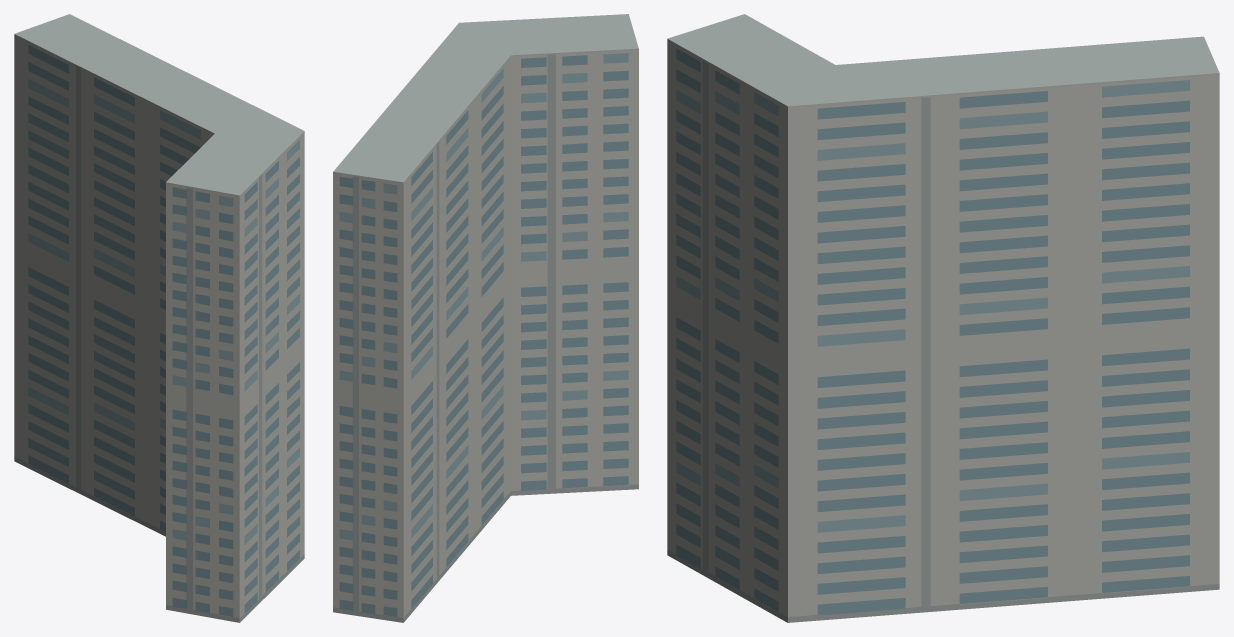
File: residential-f39b2851-1754-4e9a-a67b-254eb395c3c6.glb
3 renders of one model, left to right at view 1: azimuth 30°, elevation 25°; view 2: azimuth 150°, elevation 25°; view 3: azimuth 270°, elevation 25°, orthographic. The views are drawn at different scales.
Parts seen in each view (by area): view 1: residential-f39b2851-1754-4e9a-a67b-254eb395c3c6.tmp; view 2: residential-f39b2851-1754-4e9a-a67b-254eb395c3c6.tmp; view 3: residential-f39b2851-1754-4e9a-a67b-254eb395c3c6.tmp.
Boxes of the visible parts, <box> form: residential-f39b2851-1754-4e9a-a67b-254eb395c3c6.tmp: <box>14,14,304,622</box>; residential-f39b2851-1754-4e9a-a67b-254eb395c3c6.tmp: <box>333,14,638,622</box>; residential-f39b2851-1754-4e9a-a67b-254eb395c3c6.tmp: <box>667,14,1219,622</box>.
Size of the model in its own units: 27.23 by 71 by 68.82.
